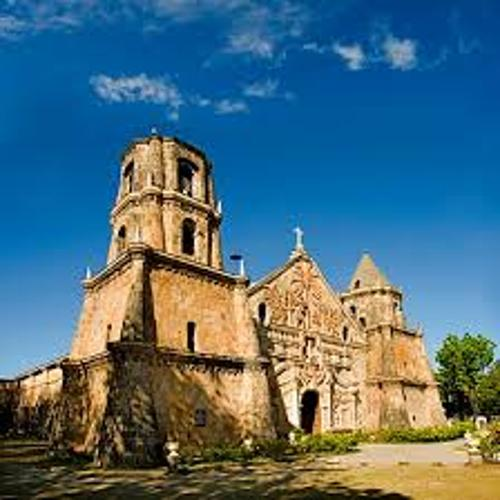Miagao Church: (71, 116, 446, 438)
